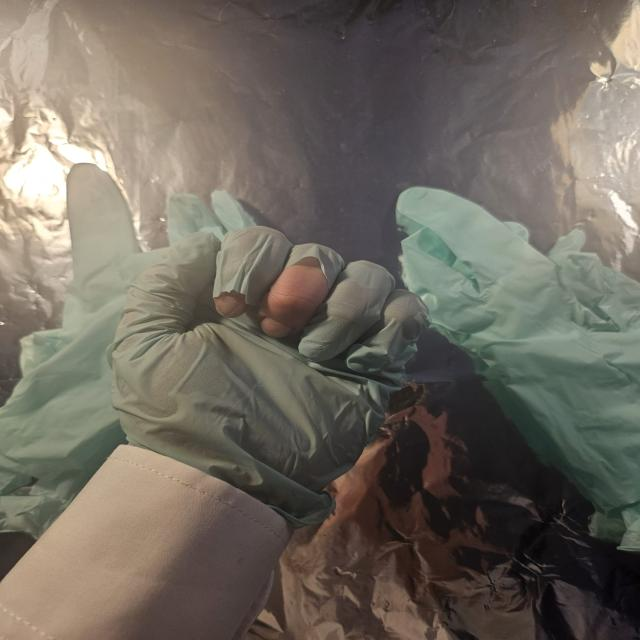gloves_damaged: (108, 221, 432, 530)
